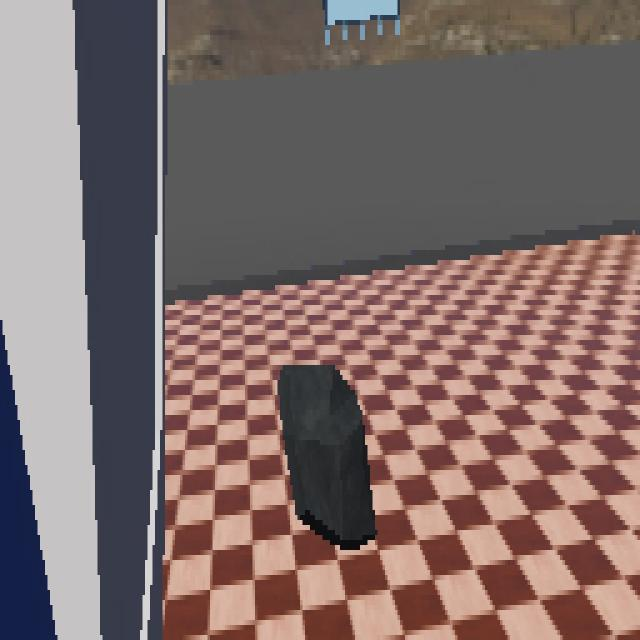rock: (278, 364, 376, 547)
